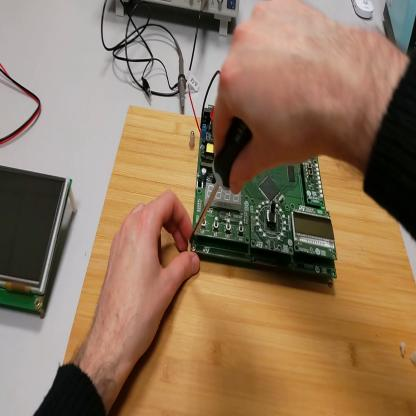hand: (213, 2, 358, 196), (97, 191, 200, 365)
low voltage board: (189, 70, 338, 287)
oscilloscope: (117, 2, 244, 38)
oscilloscope probe tip: (180, 45, 185, 110)
screwdriver-: (193, 118, 253, 240)
welder station: (386, 2, 416, 58)
working area: (65, 107, 416, 416)
